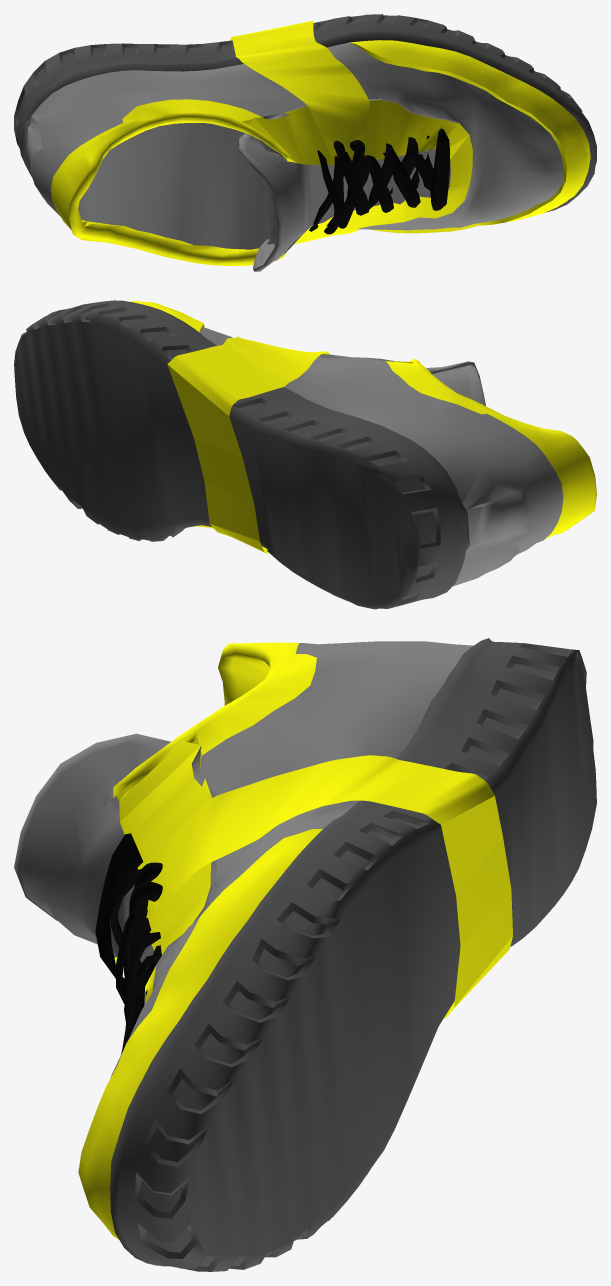
Rendered from yaya_shoe2_left.obj.
3 renders of one model, top to bottom at view 1: azimuth 30°, elevation 25°; view 2: azimuth 150°, elevation 25°; view 3: azimuth 270°, elevation 25°, orthographic. The views are drawn at different scales.
Parts seen in each view (by area): view 1: TryOnShoes; view 2: TryOnShoes; view 3: TryOnShoes.
Boxes of the visible parts, bbox=[...] form: TryOnShoes: bbox=[14, 14, 596, 271]; TryOnShoes: bbox=[14, 300, 596, 609]; TryOnShoes: bbox=[14, 638, 596, 1271].
Bounding box in the file's own units: 314 × 115 × 177.
